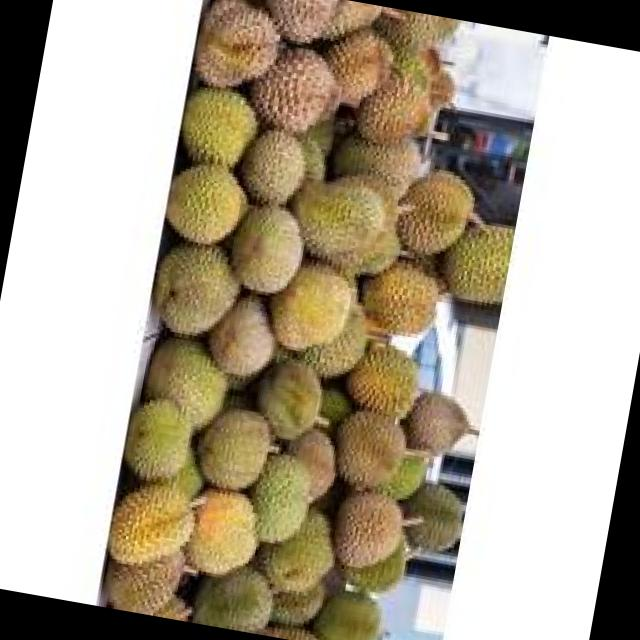fruit: (175, 388, 290, 508), (146, 227, 252, 352), (232, 0, 412, 72), (104, 470, 210, 582), (313, 396, 418, 506), (380, 162, 480, 270), (312, 481, 416, 584), (328, 330, 432, 430), (219, 115, 318, 216), (164, 152, 251, 255)
